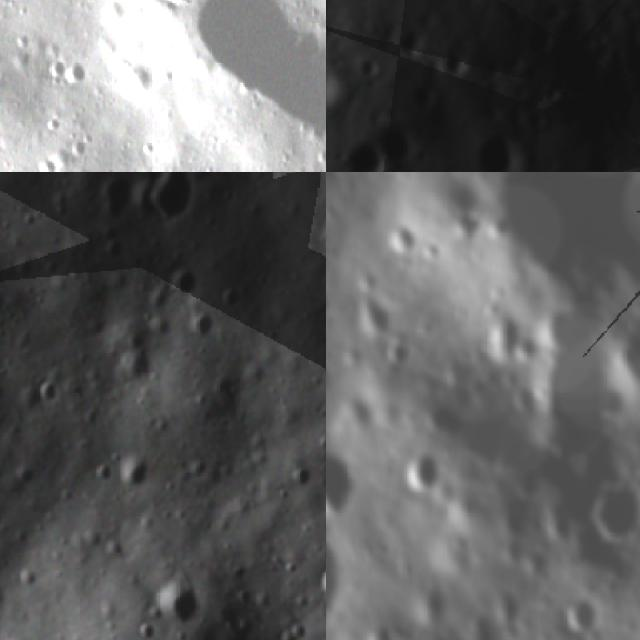crater: (191, 0, 326, 156), (584, 464, 640, 546), (467, 122, 529, 172), (146, 172, 202, 225), (152, 576, 209, 626), (396, 434, 439, 496), (372, 115, 418, 171), (92, 178, 141, 227), (328, 139, 397, 172), (326, 441, 357, 512), (610, 327, 640, 400), (426, 46, 475, 88), (407, 75, 448, 123), (483, 312, 518, 365), (558, 588, 594, 638), (398, 23, 440, 65), (515, 21, 555, 65), (357, 290, 388, 346), (163, 264, 200, 306), (326, 55, 346, 119), (115, 457, 149, 494), (29, 373, 61, 412), (187, 310, 220, 347), (388, 217, 414, 263), (62, 54, 92, 89), (281, 615, 313, 640), (219, 286, 244, 317), (0, 630, 43, 640), (315, 568, 326, 605)
